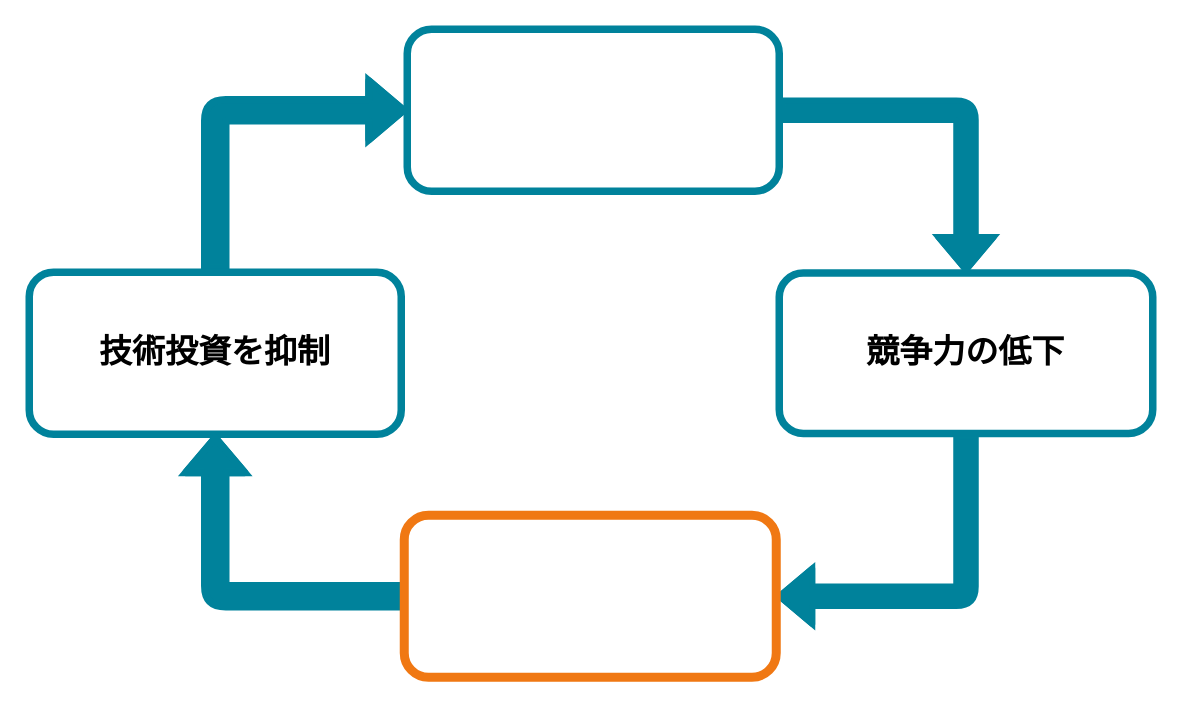
This 1182x708 diagram has some shape labels left out. Here are the shapes that lost their labels. From the top down, the centre of each, then its label:
point 592,109: 開発速度・品質の低下 価値創出機会の喪失
point 589,595: 営業CFの悪化
